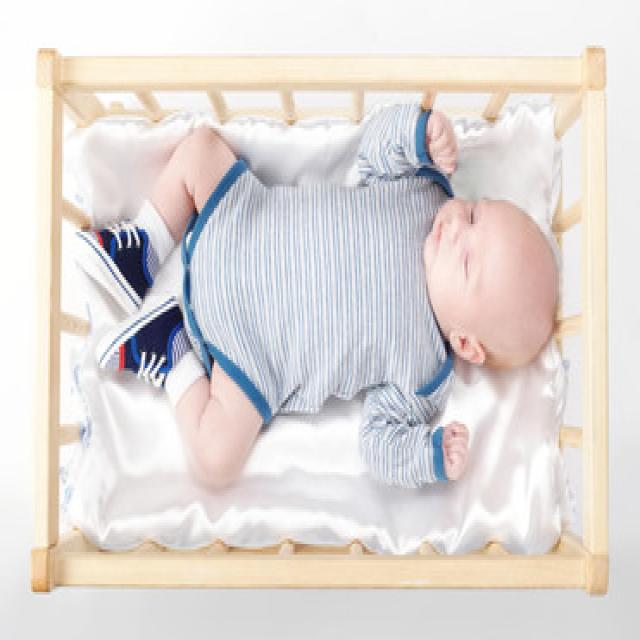crib: (29, 43, 609, 592)
